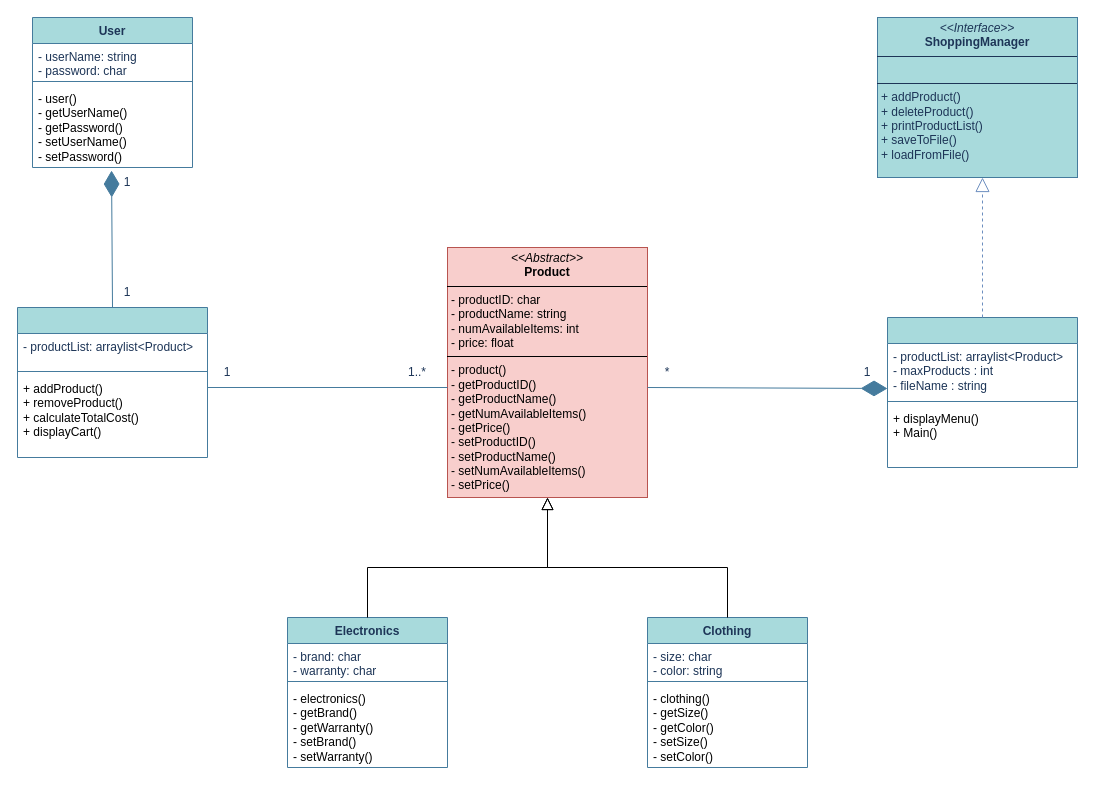
The diagram is 1095 pixels wide and 788 high, and some of its shapes have lost their labels. The shapes that lost their labels are listed below. From the top down, each one's box as (x1, y1, x2, y2) in pixels, then its label:
(16, 306, 208, 458): ShoppingCart
(886, 316, 1078, 468): NBShoppingManager
